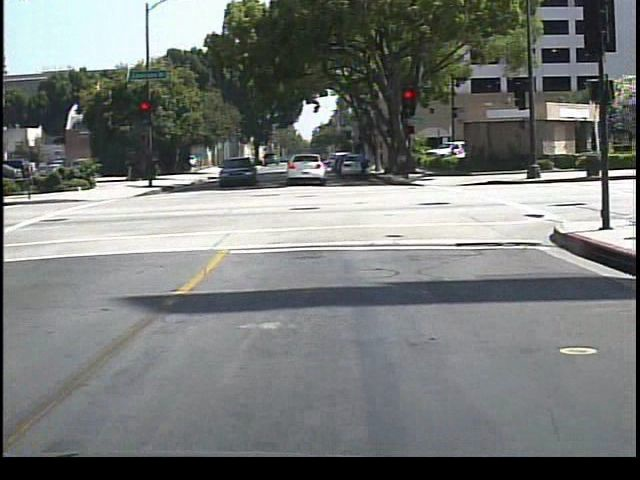person: (353, 144, 375, 185)
